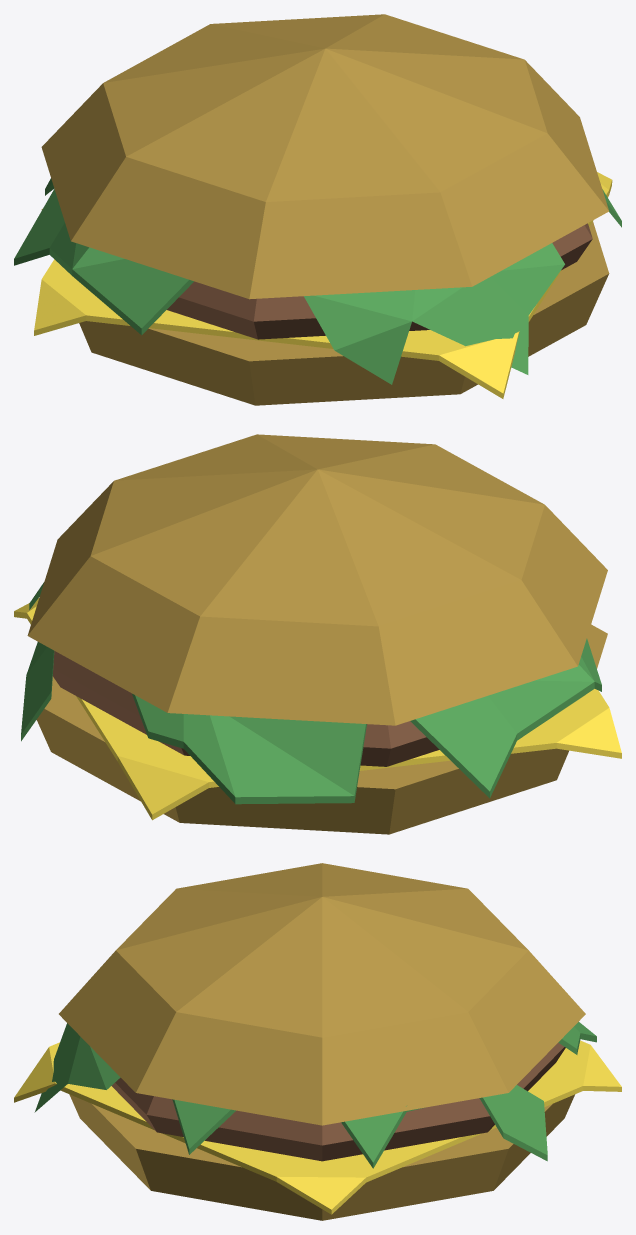
The model's file is Hamberger.fbx.
3 views of the same model, one above another, from view 1: azimuth 30°, elevation 25°; view 2: azimuth 150°, elevation 25°; view 3: azimuth 270°, elevation 25° (orthographic). The views are drawn at different scales.
Visible parts, largest first — view 1: Cylinder; view 2: Cylinder; view 3: Cylinder.
Boxes of the visible parts, x1,y1,x2,y2 form: Cylinder: (14,14,621,405); Cylinder: (14,434,621,834); Cylinder: (14,863,621,1220).
Bounding box in the file's own units: 199 × 89.07 × 200.
1 material, 1 textured.
